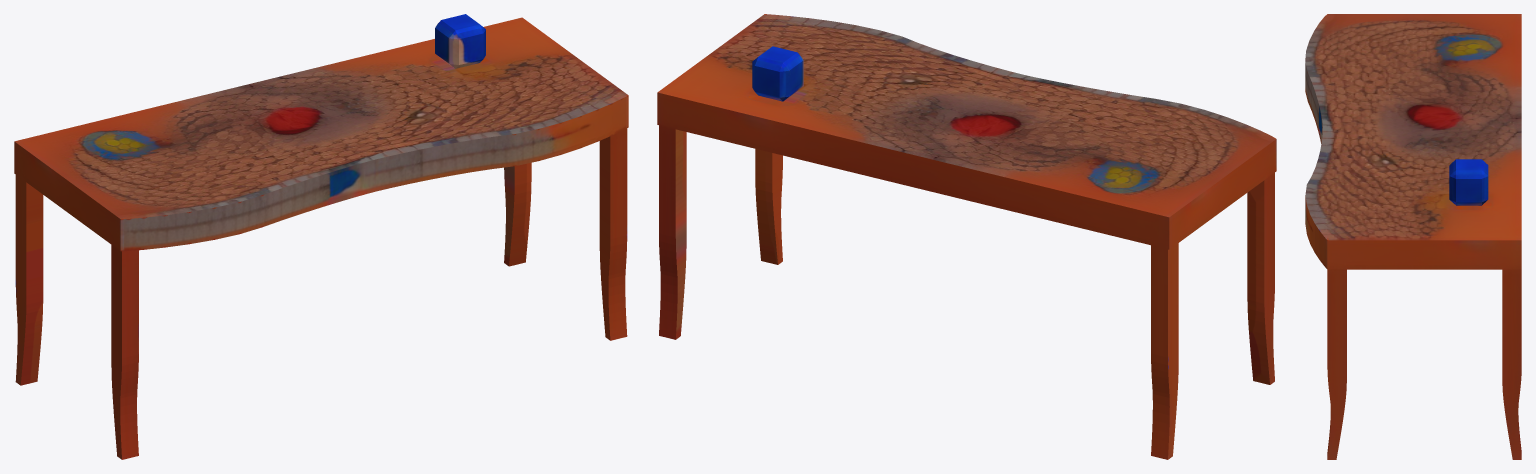
The model's file is edited_mesh.glb.
3 views of the same model, side by side, from view 1: azimuth 30°, elevation 25°; view 2: azimuth 150°, elevation 25°; view 3: azimuth 270°, elevation 25° (orthographic). The views are drawn at different scales.
Parts seen in each view (by area): view 1: solid_001_wire; view 2: solid_001_wire; view 3: solid_001_wire.
Part boxes in pixels (left/top/right/bottom): solid_001_wire: left=14, top=14, right=628, bottom=459; solid_001_wire: left=657, top=14, right=1276, bottom=459; solid_001_wire: left=1305, top=14, right=1521, bottom=459.
Size of the model in its own units: 1.95 by 1.03 by 0.7881.
1 material, 1 textured.
